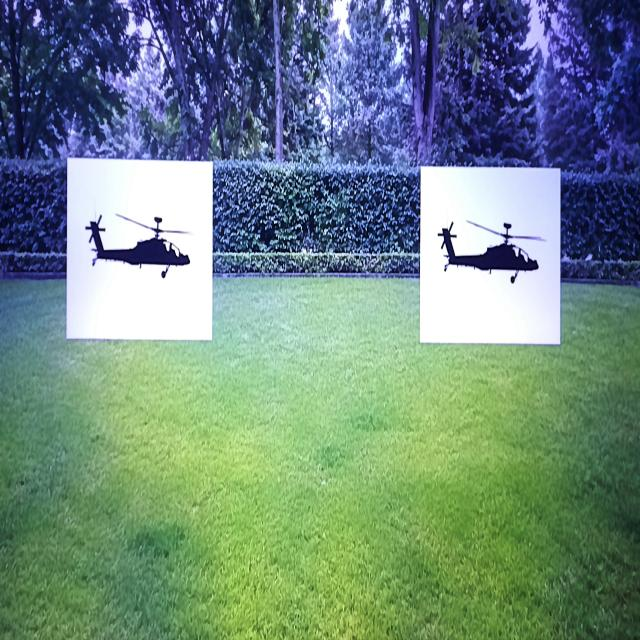Apache friendly: (438, 221, 545, 283), (86, 214, 189, 277)
